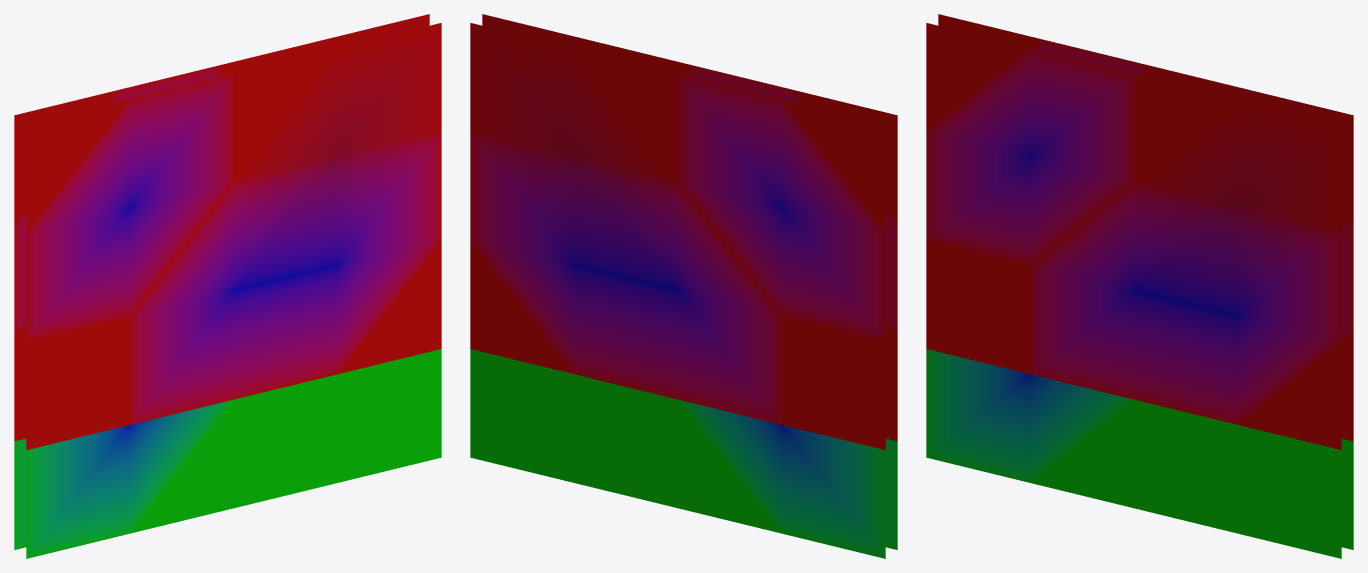
Rendered from WallA_8x8.fbx.
3 renders of one model, left to right at view 1: azimuth 30°, elevation 25°; view 2: azimuth 150°, elevation 25°; view 3: azimuth 330°, elevation 25°, orthographic.
Parts seen in each view (by area): view 1: Plane.001; view 2: Plane.001; view 3: Plane.001.
Part boxes in pixels (bbox=[...]): Plane.001: bbox=[14, 14, 441, 558]; Plane.001: bbox=[470, 14, 897, 558]; Plane.001: bbox=[926, 14, 1353, 558].
Size of the model in its own units: 800 by 800 by 40.
